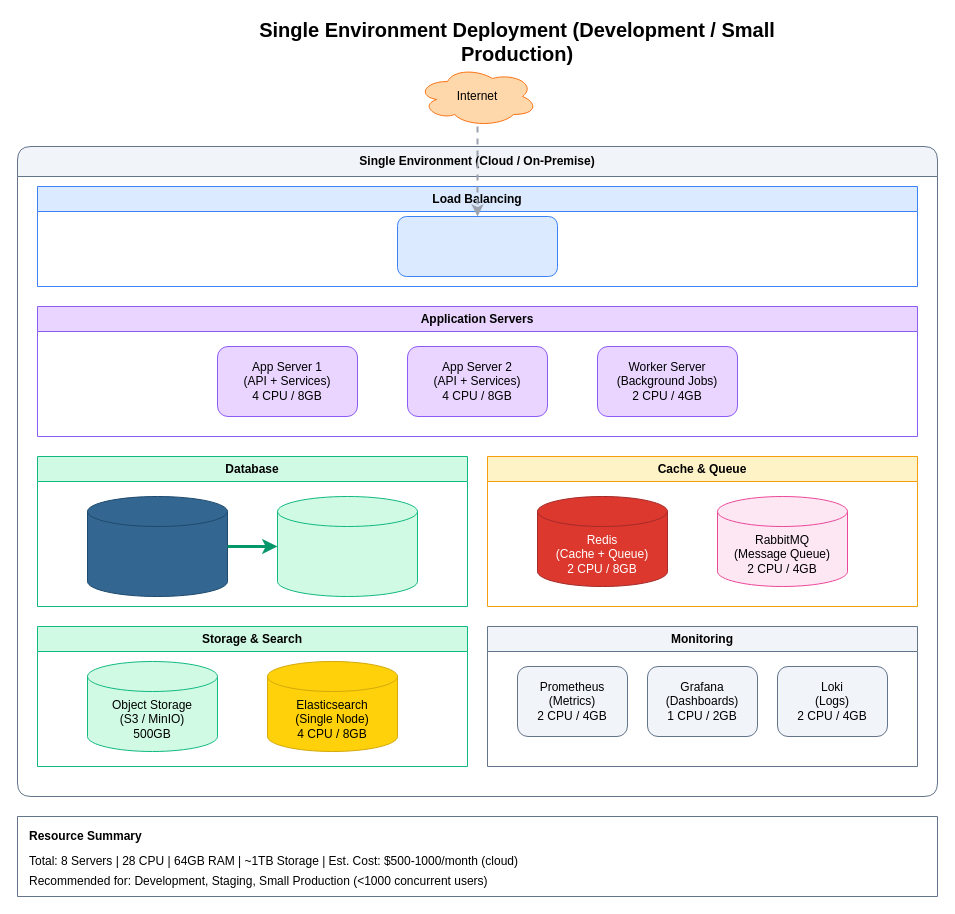
Some shapes in this 955 by 914 pixel diagram are drawn without their labels. Here are the shapes that lost their labels. From the top down, the centre of each, then its label:
the point at 477,246: Load Balancer (Nginx / HAProxy) 2 CPU / 4GB
the point at 157,546: PostgreSQL Primary 4 CPU / 16GB / 200GB SSD
the point at 347,546: PostgreSQL Replica 4 CPU / 16GB / 200GB SSD
